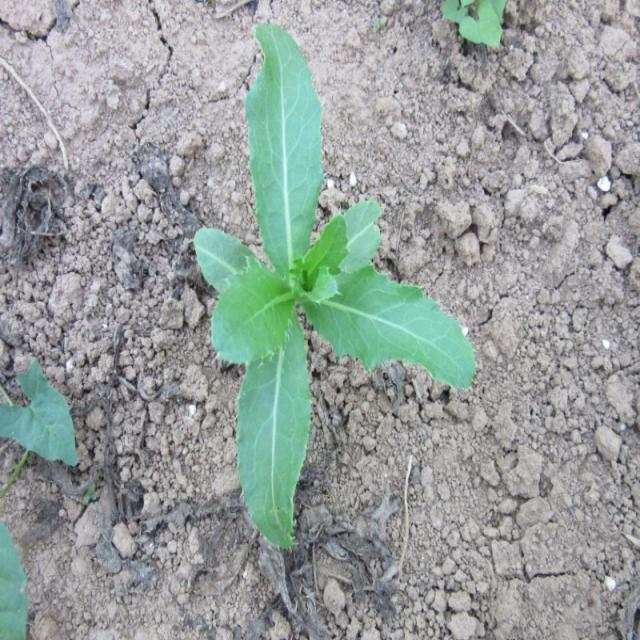cs: (192, 22, 477, 550)
